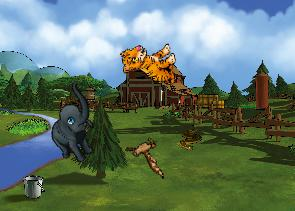eagle: (119, 130, 175, 179)
elephant: (31, 80, 117, 169)
tiger: (119, 38, 180, 92)
